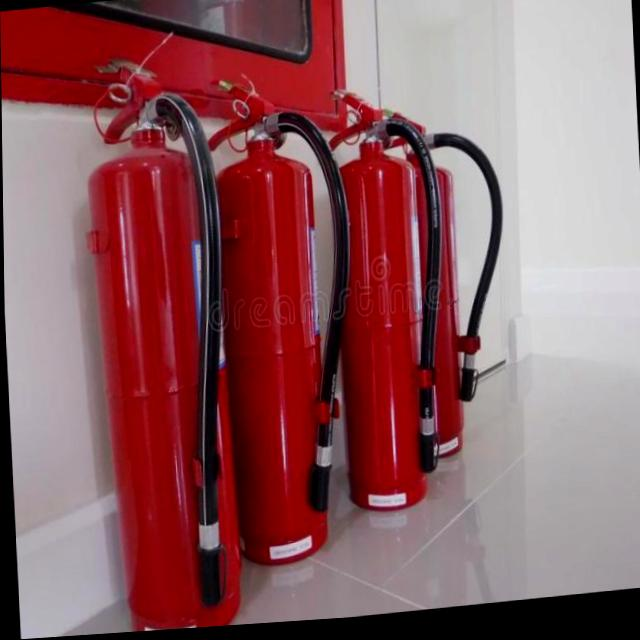FireExtinguisher: (73, 40, 250, 636), (194, 62, 369, 580), (312, 73, 455, 526), (362, 94, 517, 480)
